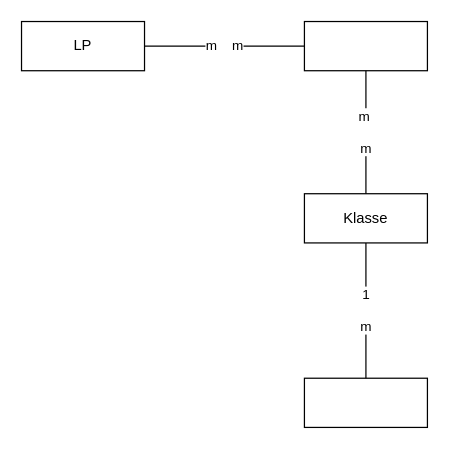
The diagram is 449 pixels wide and 449 high, and some of its shapes have lost their labels. Here are the shapes that lost their labels. From the top down, the centre of each, then its label:
At pixel 365 45: "Modul".
At pixel 365 402: "LE".
